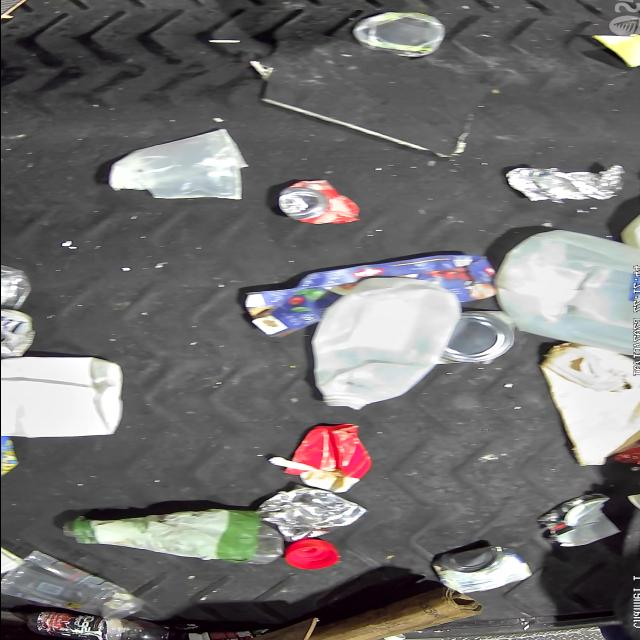can: (256, 486, 366, 542), (426, 545, 534, 595), (438, 310, 516, 364), (276, 180, 362, 226), (0, 309, 38, 359)
milk_jug: (310, 280, 462, 408), (496, 228, 640, 352)
plastic_bottle: (0, 552, 143, 616), (26, 610, 182, 640)
